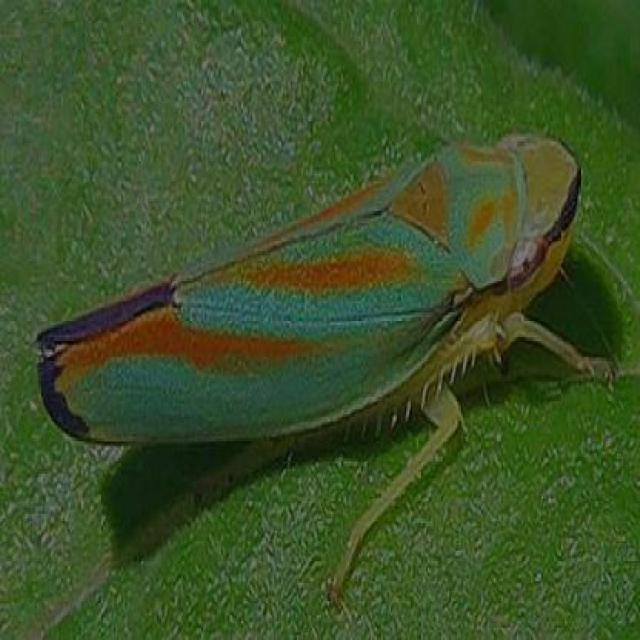green-leafhopper: (36, 151, 584, 432)
